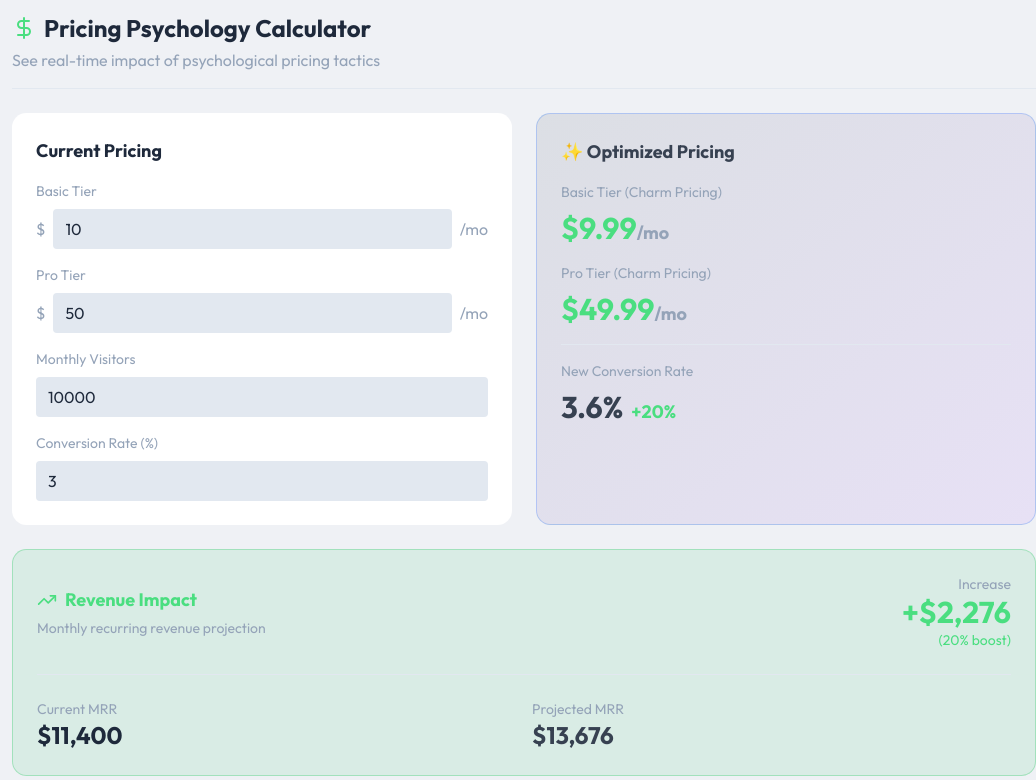
Scenario: PricingCalculator › updates charm pricing when pro price changes
The image size is (1036, 780).
Replace the text in the 2nd number field with "100": [253, 313] box x1=53 y1=293 x2=452 y2=333
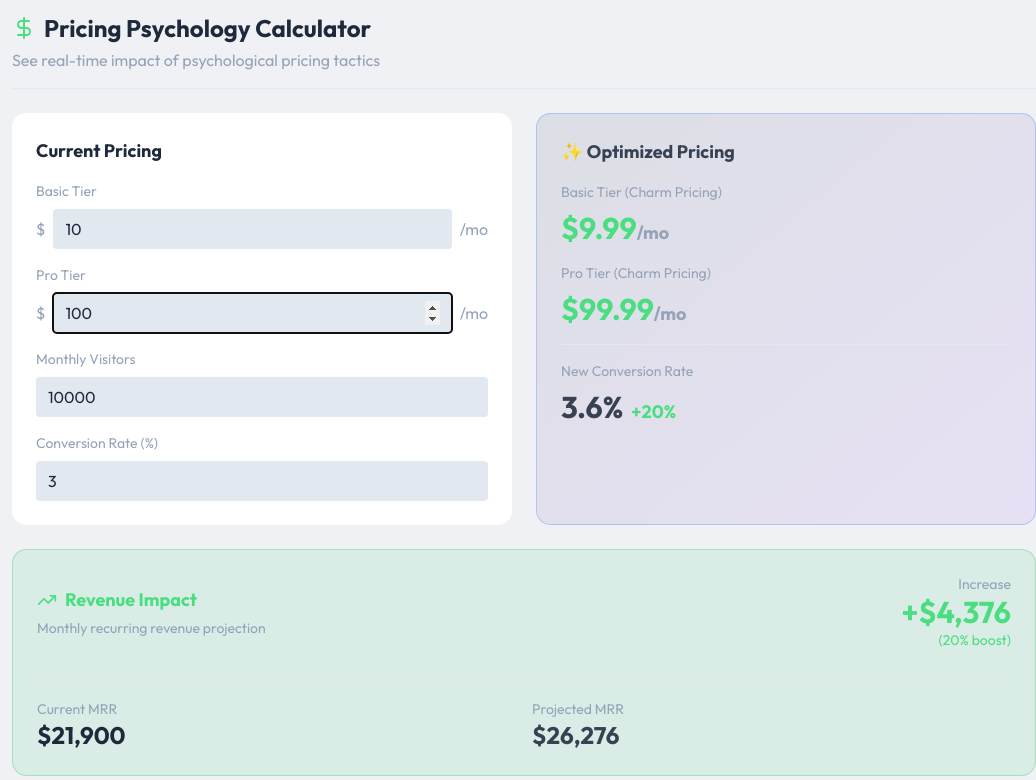
Now the text "$99.99" is shown, box x1=561 y1=290 x2=686 y2=328
